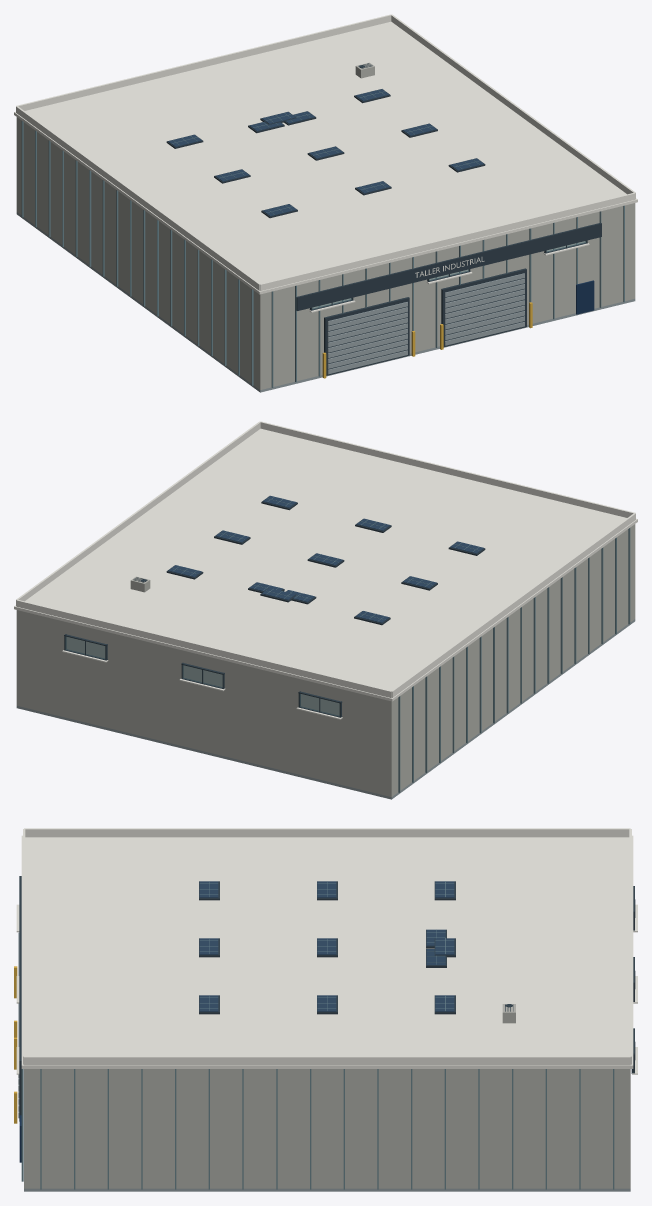
Rendered from Warehouse_2.fbx.
3 views of the same model, one above another, from view 1: azimuth 30°, elevation 25°; view 2: azimuth 150°, elevation 25°; view 3: azimuth 270°, elevation 25° (orthographic). The views are drawn at different scales.
Visible parts, largest first — view 1: Warehouse_2.018; view 2: Warehouse_2.018; view 3: Warehouse_2.018.
Part boxes in pixels (x1,y1,x2,y2): Warehouse_2.018: (14, 14, 637, 392); Warehouse_2.018: (14, 421, 637, 799); Warehouse_2.018: (14, 828, 637, 1191).
Size of the model in its own units: 32.3 by 9.07 by 37.04.
